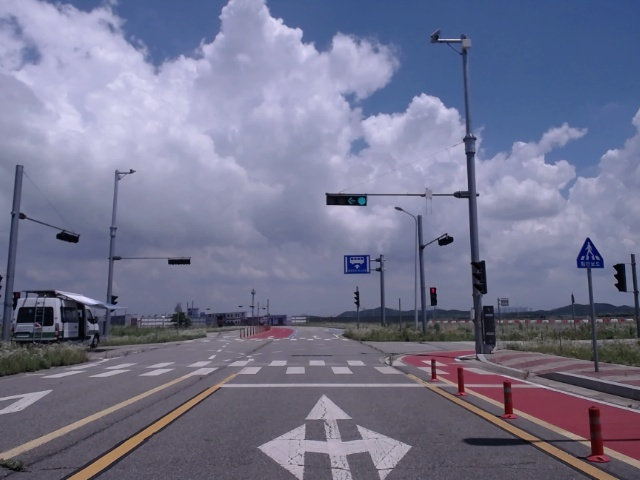all_green_4: (323, 194, 365, 206)
